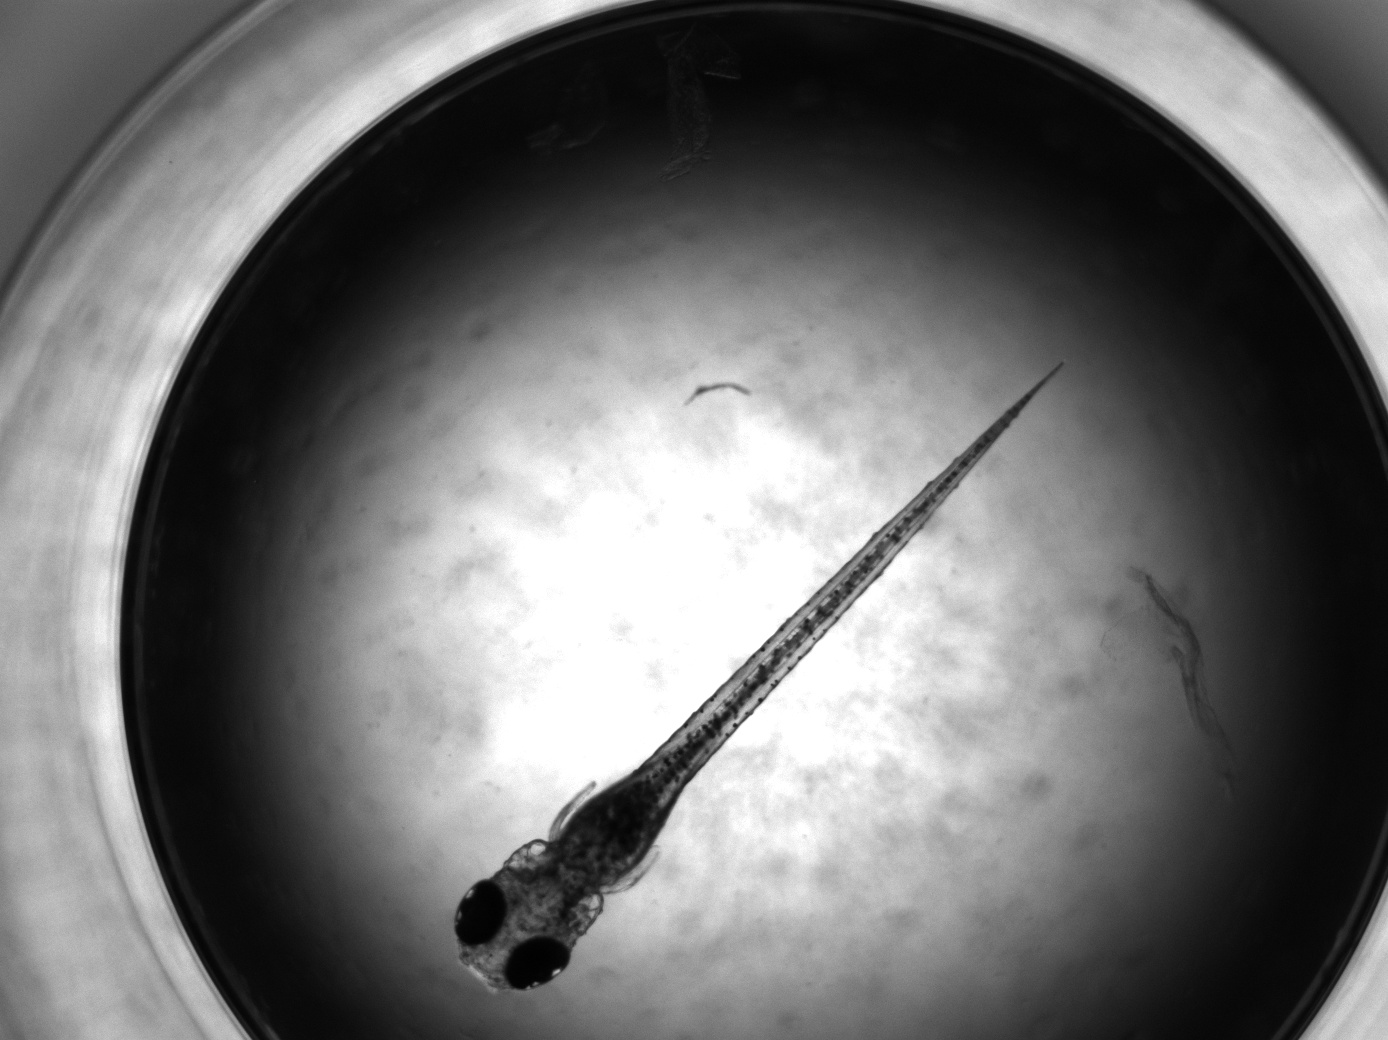embryo: (453, 359, 1067, 993)
eye: (502, 937, 571, 993), (452, 881, 505, 947)
yolksac: (553, 766, 685, 893)
